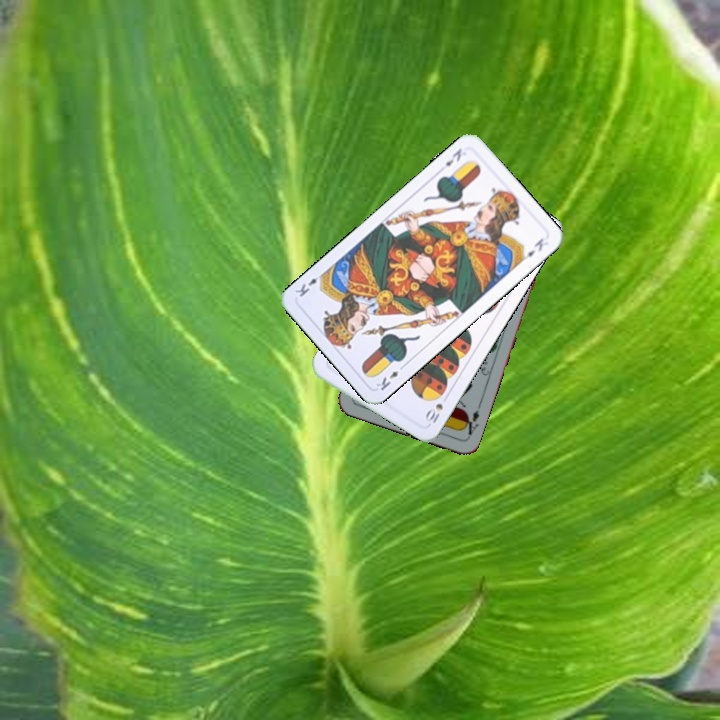EA: (458, 406, 482, 440)
EK: (372, 360, 408, 393), (441, 144, 464, 169)
S10: (421, 391, 451, 427)
